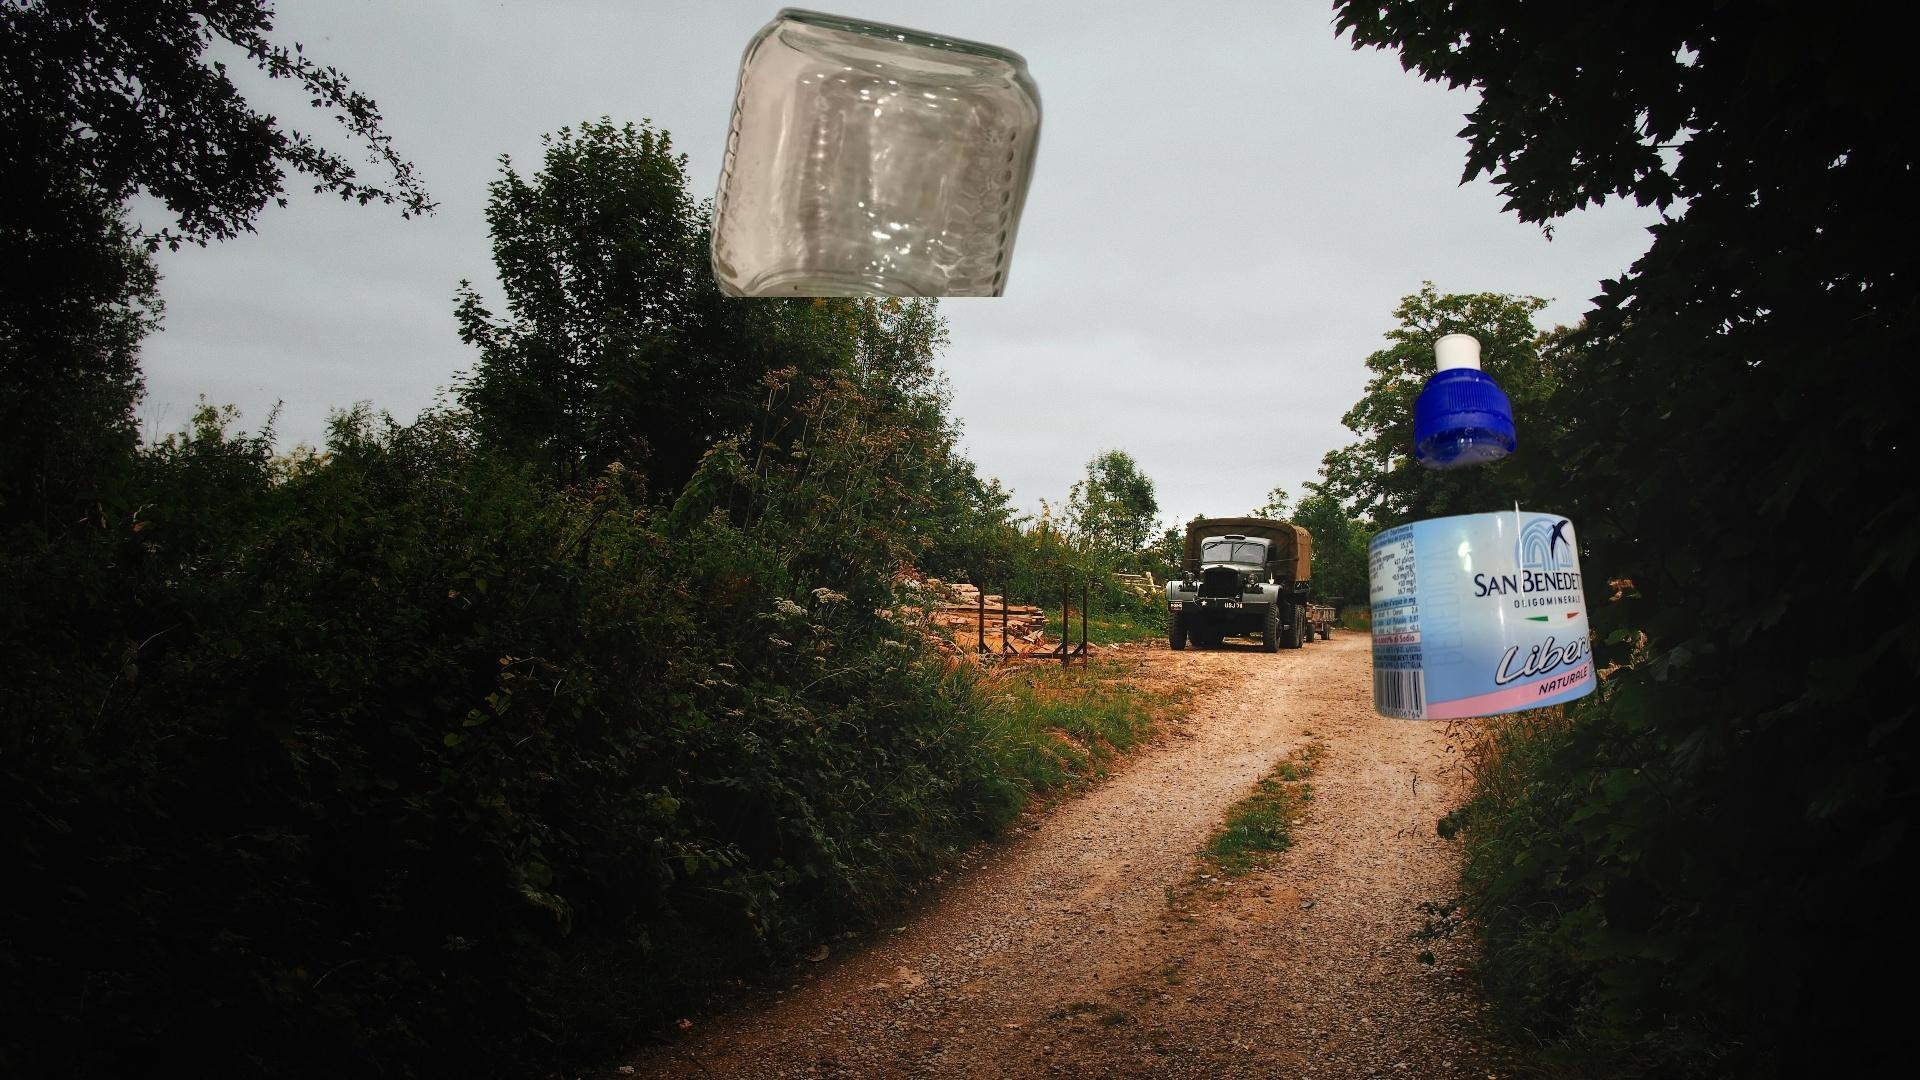glass: (705, 4, 1052, 297)
plastic-bottles: (1364, 328, 1601, 725)
